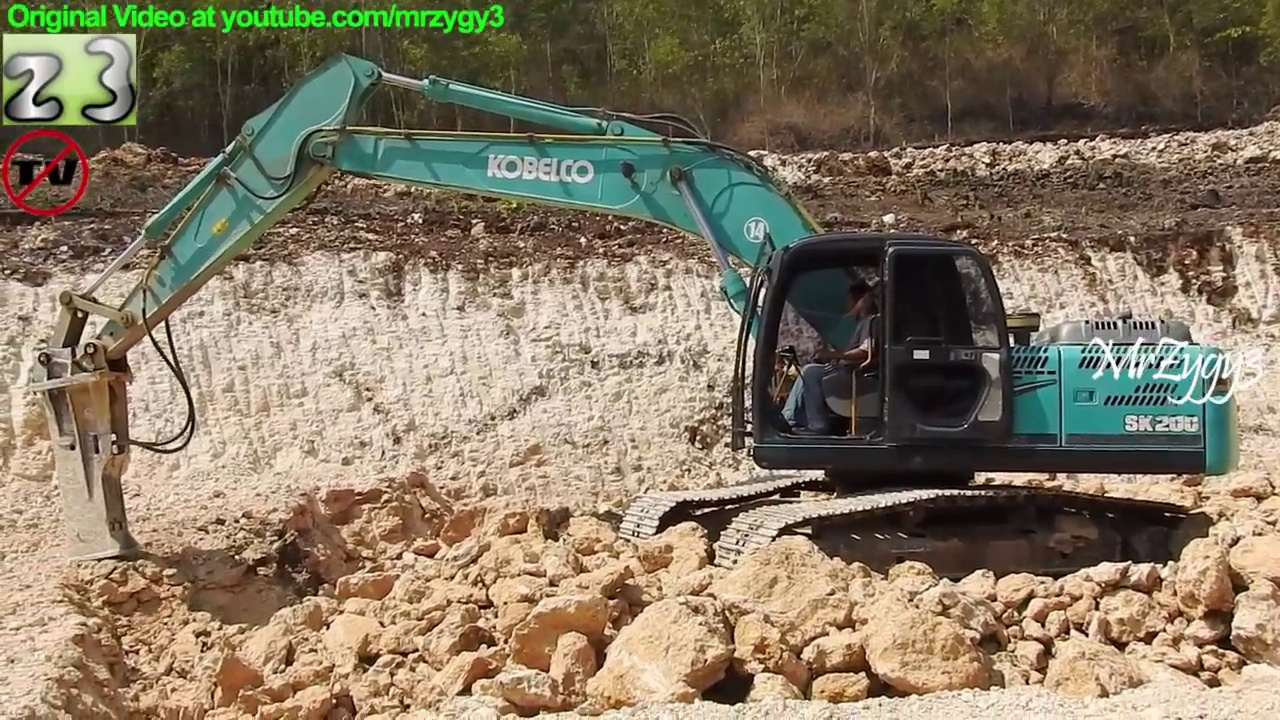excavator breaker: (26, 52, 1244, 610)
